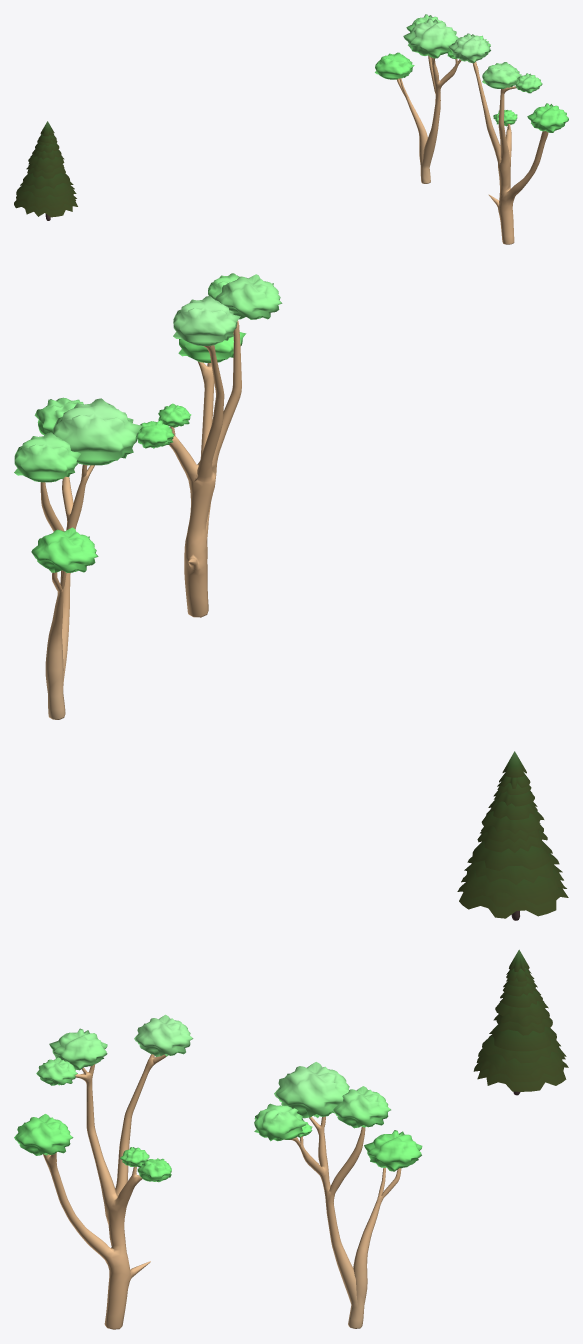
3 renders of one model, top to bottom at view 1: azimuth 30°, elevation 25°; view 2: azimuth 150°, elevation 25°; view 3: azimuth 270°, elevation 25°, orthographic. The views are drawn at different scales.
Visible parts, largest first — view 1: Object_2; view 2: Object_2; view 3: Object_2.
Boxes of the visible parts, box(x1,y1,x2,y2) form: Object_2: box(14, 14, 568, 244); Object_2: box(14, 273, 568, 920); Object_2: box(14, 949, 568, 1329).
Size of the model in its own units: 16.31 by 7.97 by 13.78.
Materials: 1 (1 with a texture image).
